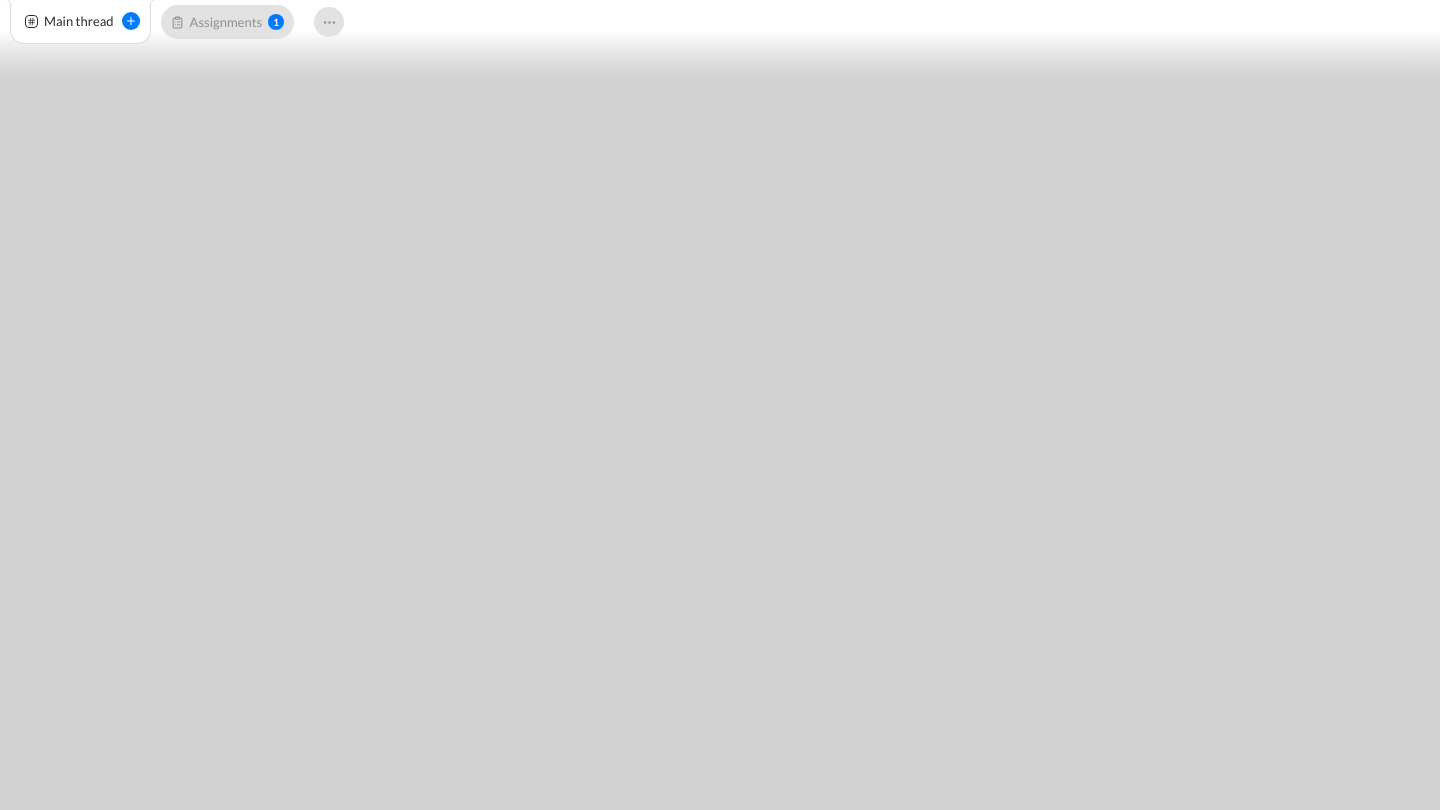
Test: ThreadTabStrip — collapsed Assignments tile › live streaming badge on an assignment thread row › falls back to the unread dot once the thread's in-flight buffer clears and it finalized while unopened
Click the button with test id "thread-tab-assignments" at {"x": 227, "y": 22}, box [161,5,294,39]
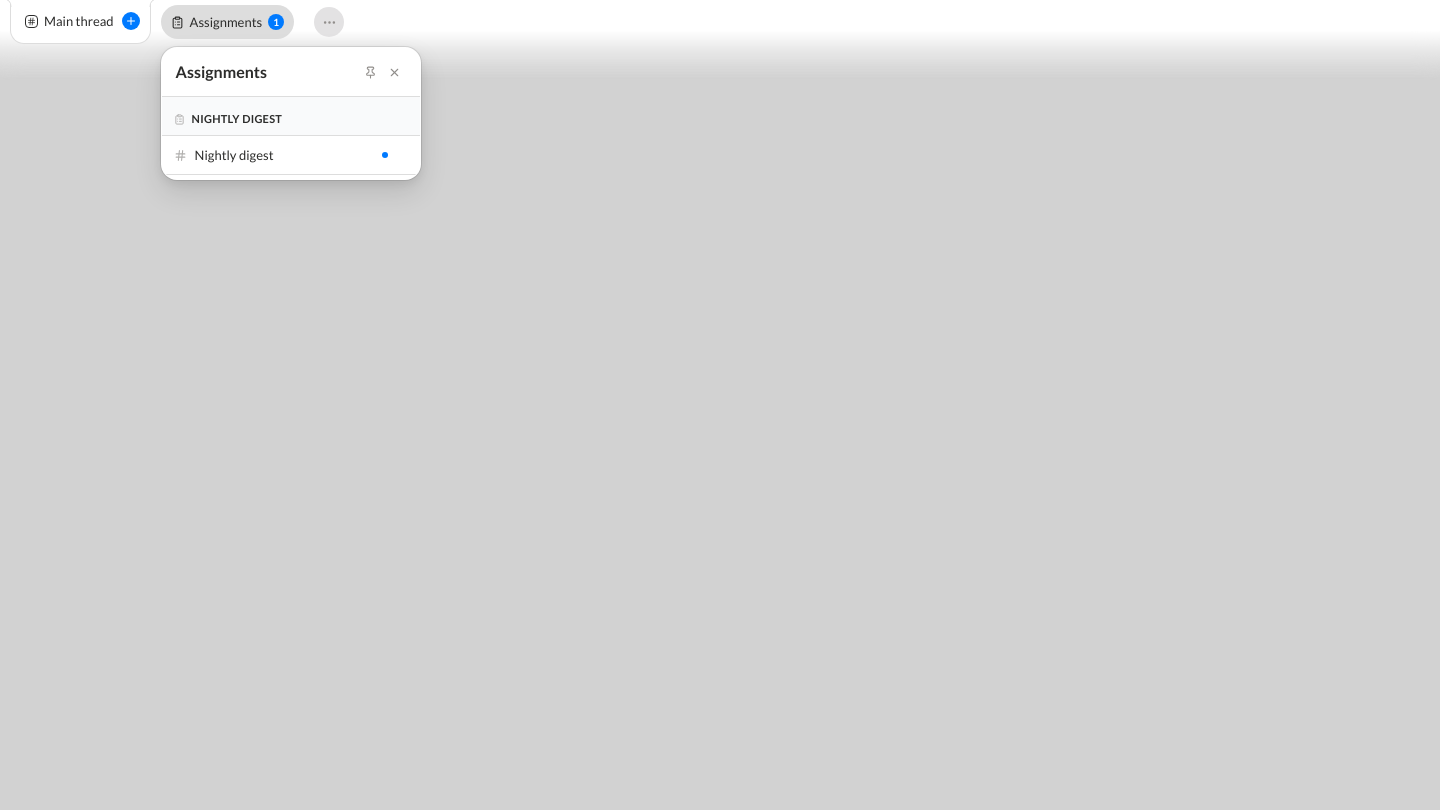
Result: the element with test id "thread-unread-dot-run-1" is shown at [382,152,388,158]
